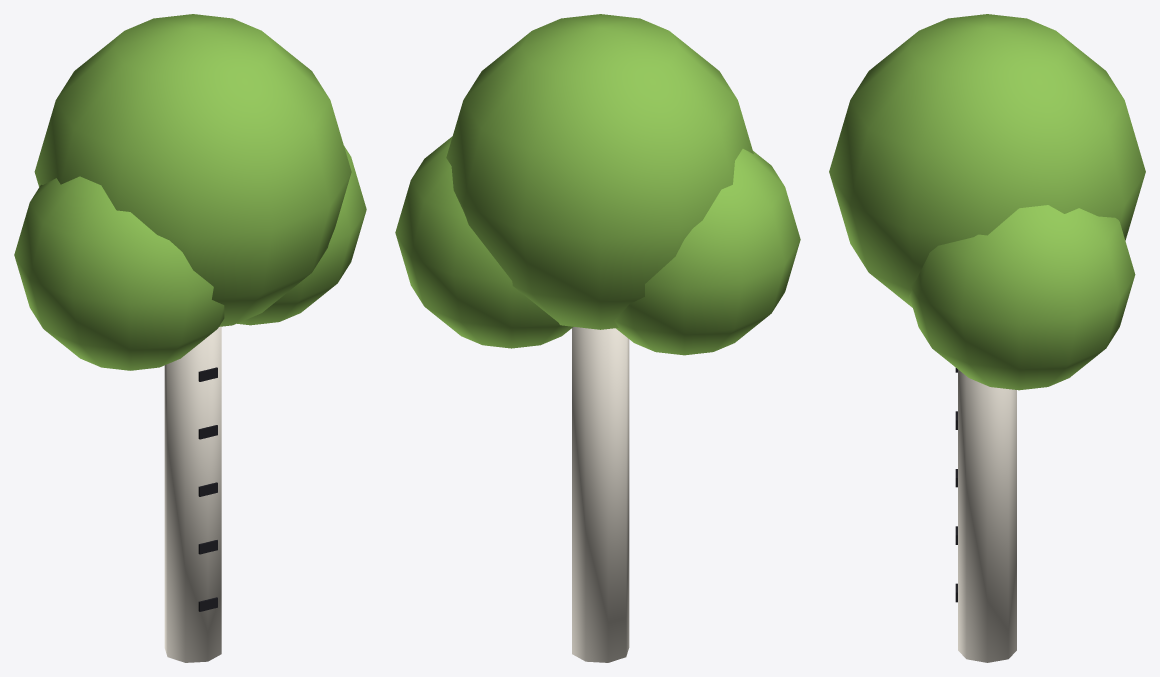
The model's file is tree_birch.glb.
3 views of the same model, side by side, from view 1: azimuth 30°, elevation 25°; view 2: azimuth 150°, elevation 25°; view 3: azimuth 270°, elevation 25° (orthographic).
Parts seen in each view (by area): view 1: tree_birch; view 2: tree_birch; view 3: tree_birch.
Part boxes in pixels (x1,y1,x2,y2): tree_birch: (14,14,366,662); tree_birch: (395,14,800,662); tree_birch: (829,14,1145,662).
Size of the model in its own units: 3.8 by 6.5 by 3.
